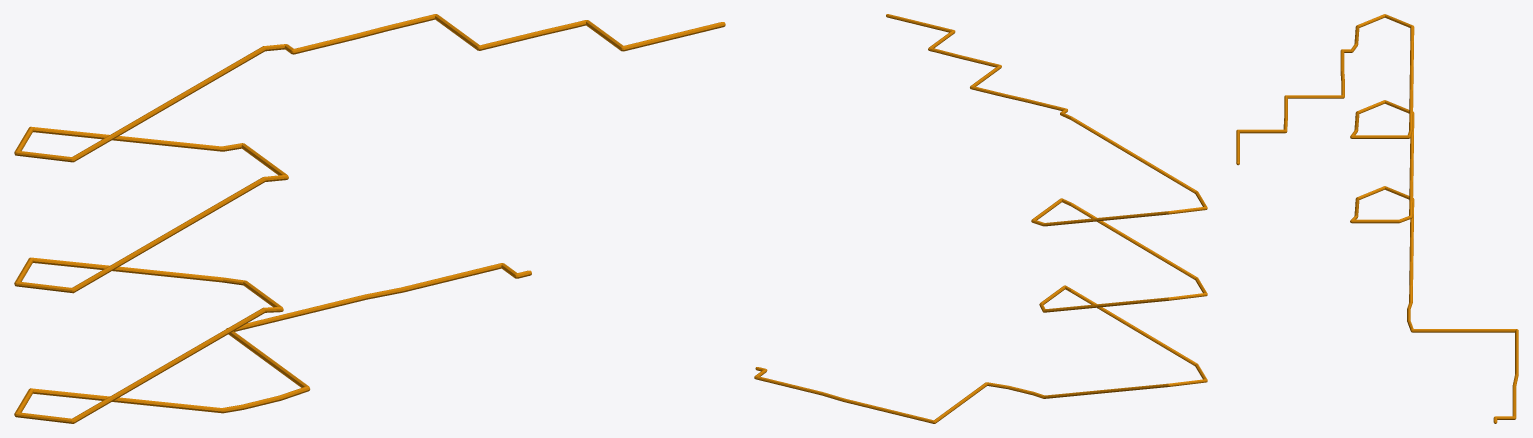
3 views of the same model, side by side, from view 1: azimuth 30°, elevation 25°; view 2: azimuth 150°, elevation 25°; view 3: azimuth 270°, elevation 25° (orthographic). The views are drawn at different scales.
Bounding box in the file's own units: 2406 × 1520 × 1489.
